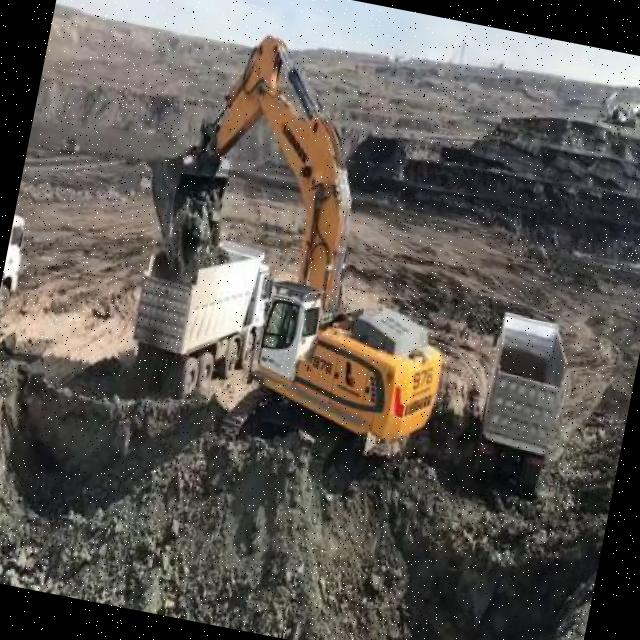Dump Truck: (126, 243, 270, 391), (462, 310, 576, 496)
Excavator: (106, 9, 501, 470)
